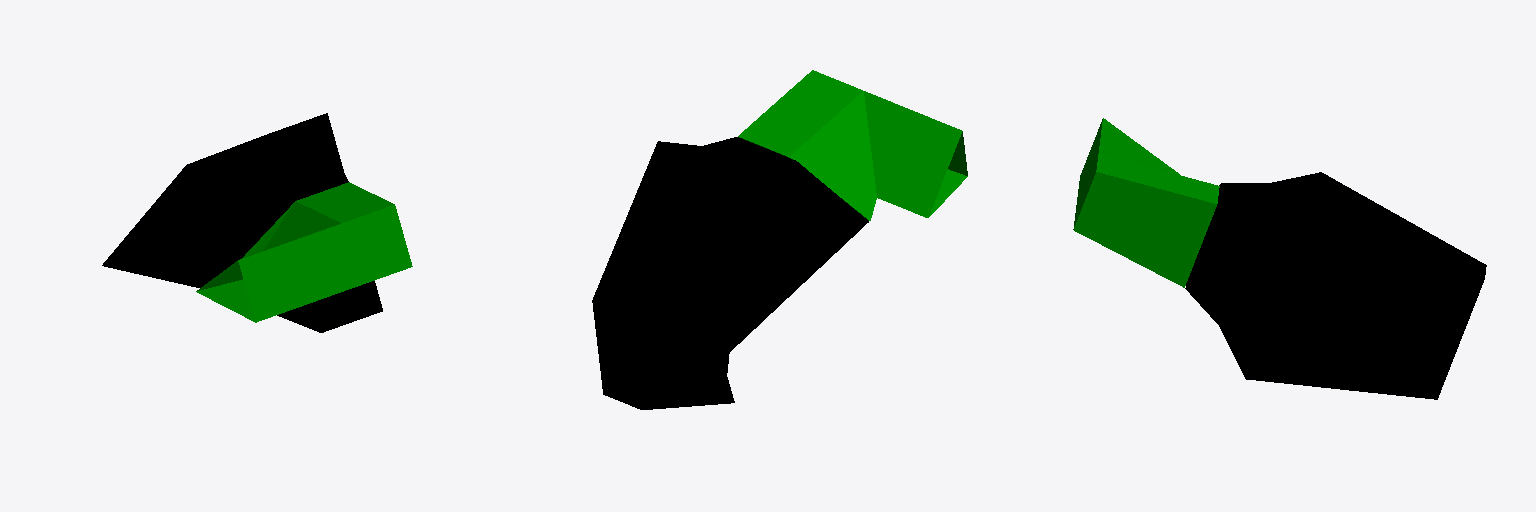
The model's file is gargoyle.obj.
3 renders of one model, left to right at view 1: azimuth 30°, elevation 25°; view 2: azimuth 150°, elevation 25°; view 3: azimuth 270°, elevation 25°, orthographic.
Parts seen in each view (by area): view 1: gargoyle; view 2: gargoyle; view 3: gargoyle.
Part boxes in pixels (x1,y1,x2,y2): gargoyle: (102,113,412,332); gargoyle: (592,70,967,409); gargoyle: (1073,118,1486,399).
Size of the model in its own units: 9.41 by 8.74 by 15.25.